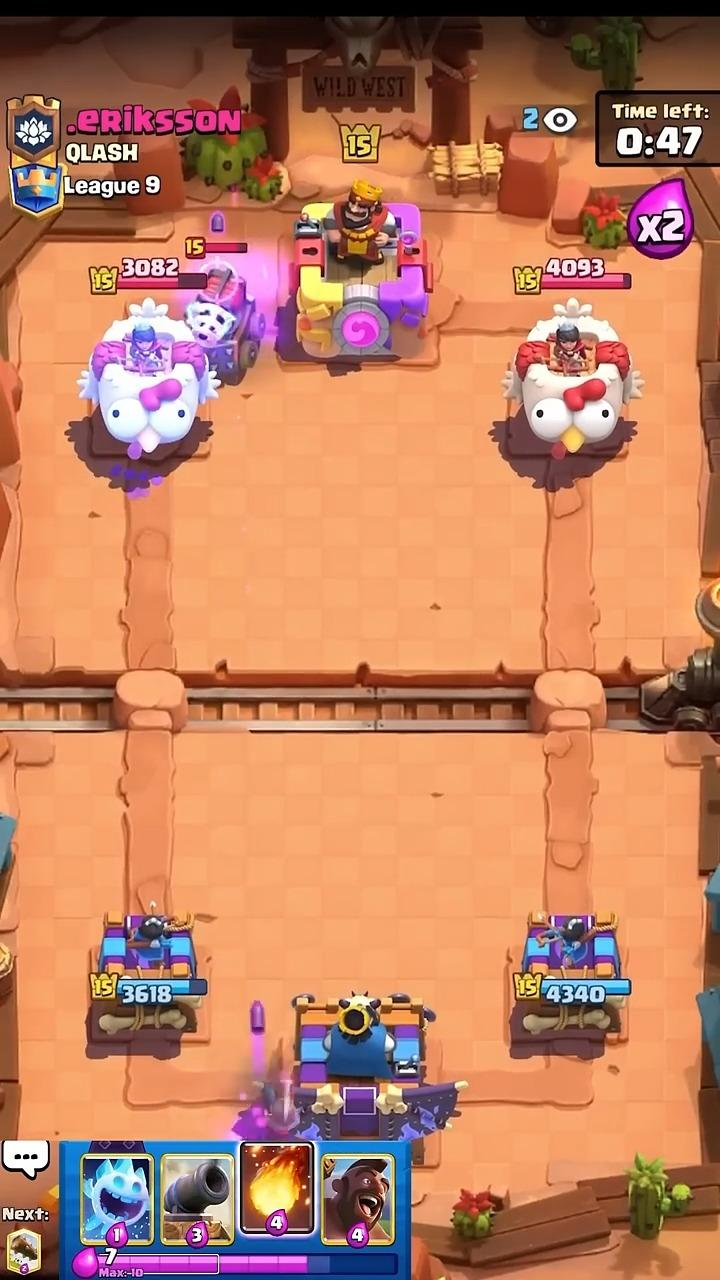musketeer: (231, 1072, 297, 1141)
sparky: (185, 262, 264, 385)
